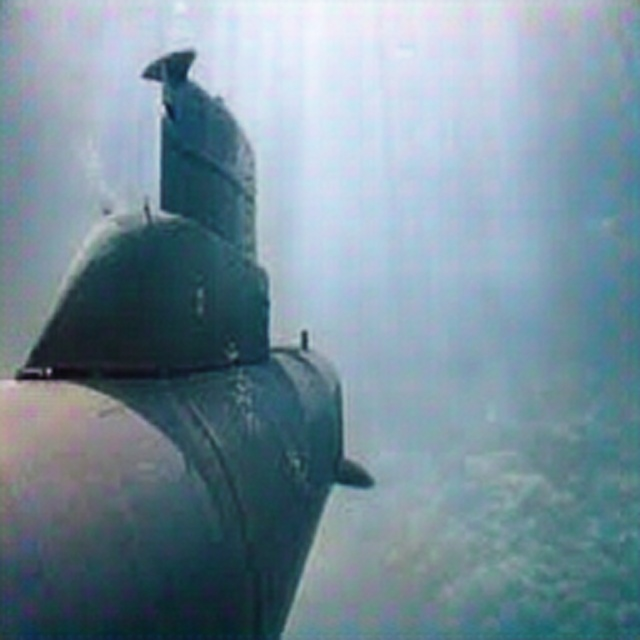submarine: (2, 28, 378, 640)
